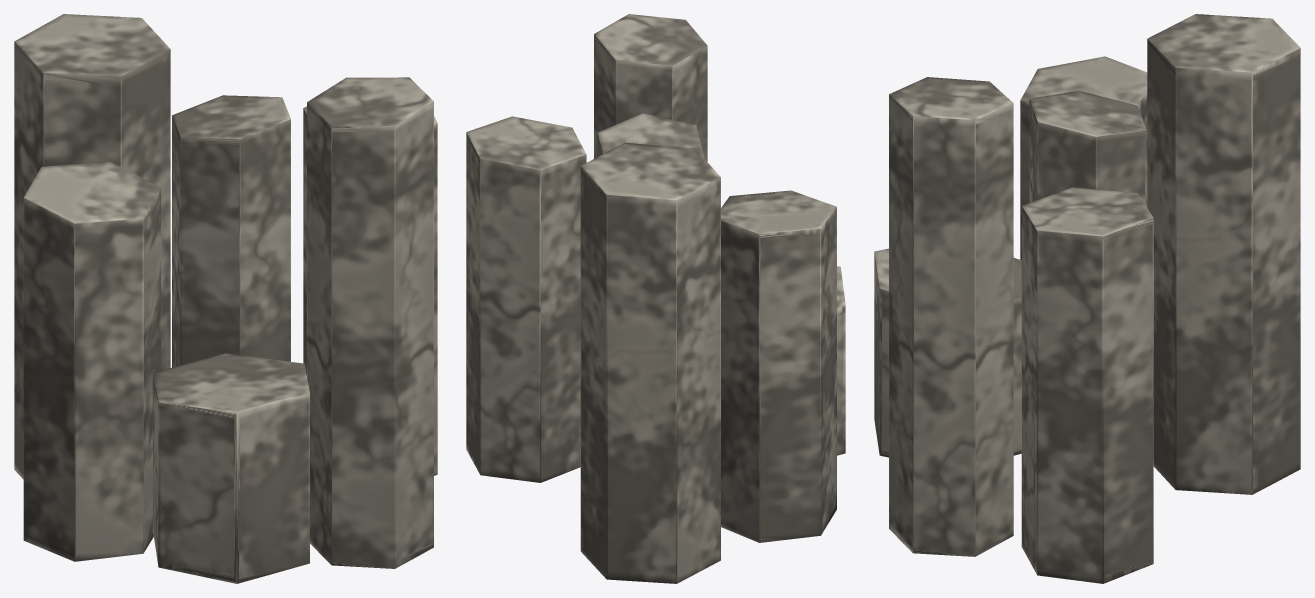
File: basalt_lp1.gltf
3 views of the same model, side by side, from view 1: azimuth 30°, elevation 25°; view 2: azimuth 150°, elevation 25°; view 3: azimuth 270°, elevation 25° (orthographic). The views are drawn at different scales.
Parts seen in each view (by area): view 1: basalt_lp1_stone_LOD0; view 2: basalt_lp1_stone_LOD0; view 3: basalt_lp1_stone_LOD0.
Boxes of the visible parts, left/top/right/bottom form: basalt_lp1_stone_LOD0: left=14, top=14, right=437, bottom=583; basalt_lp1_stone_LOD0: left=466, top=14, right=845, bottom=583; basalt_lp1_stone_LOD0: left=874, top=14, right=1300, bottom=583.
Size of what is drawn, in the model's own units: 1.26 by 1.35 by 1.2.
1 material, 1 textured.
